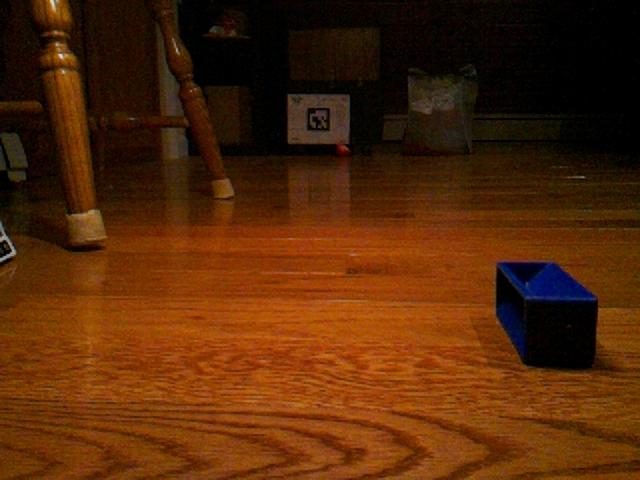blue: (493, 258, 600, 370)
